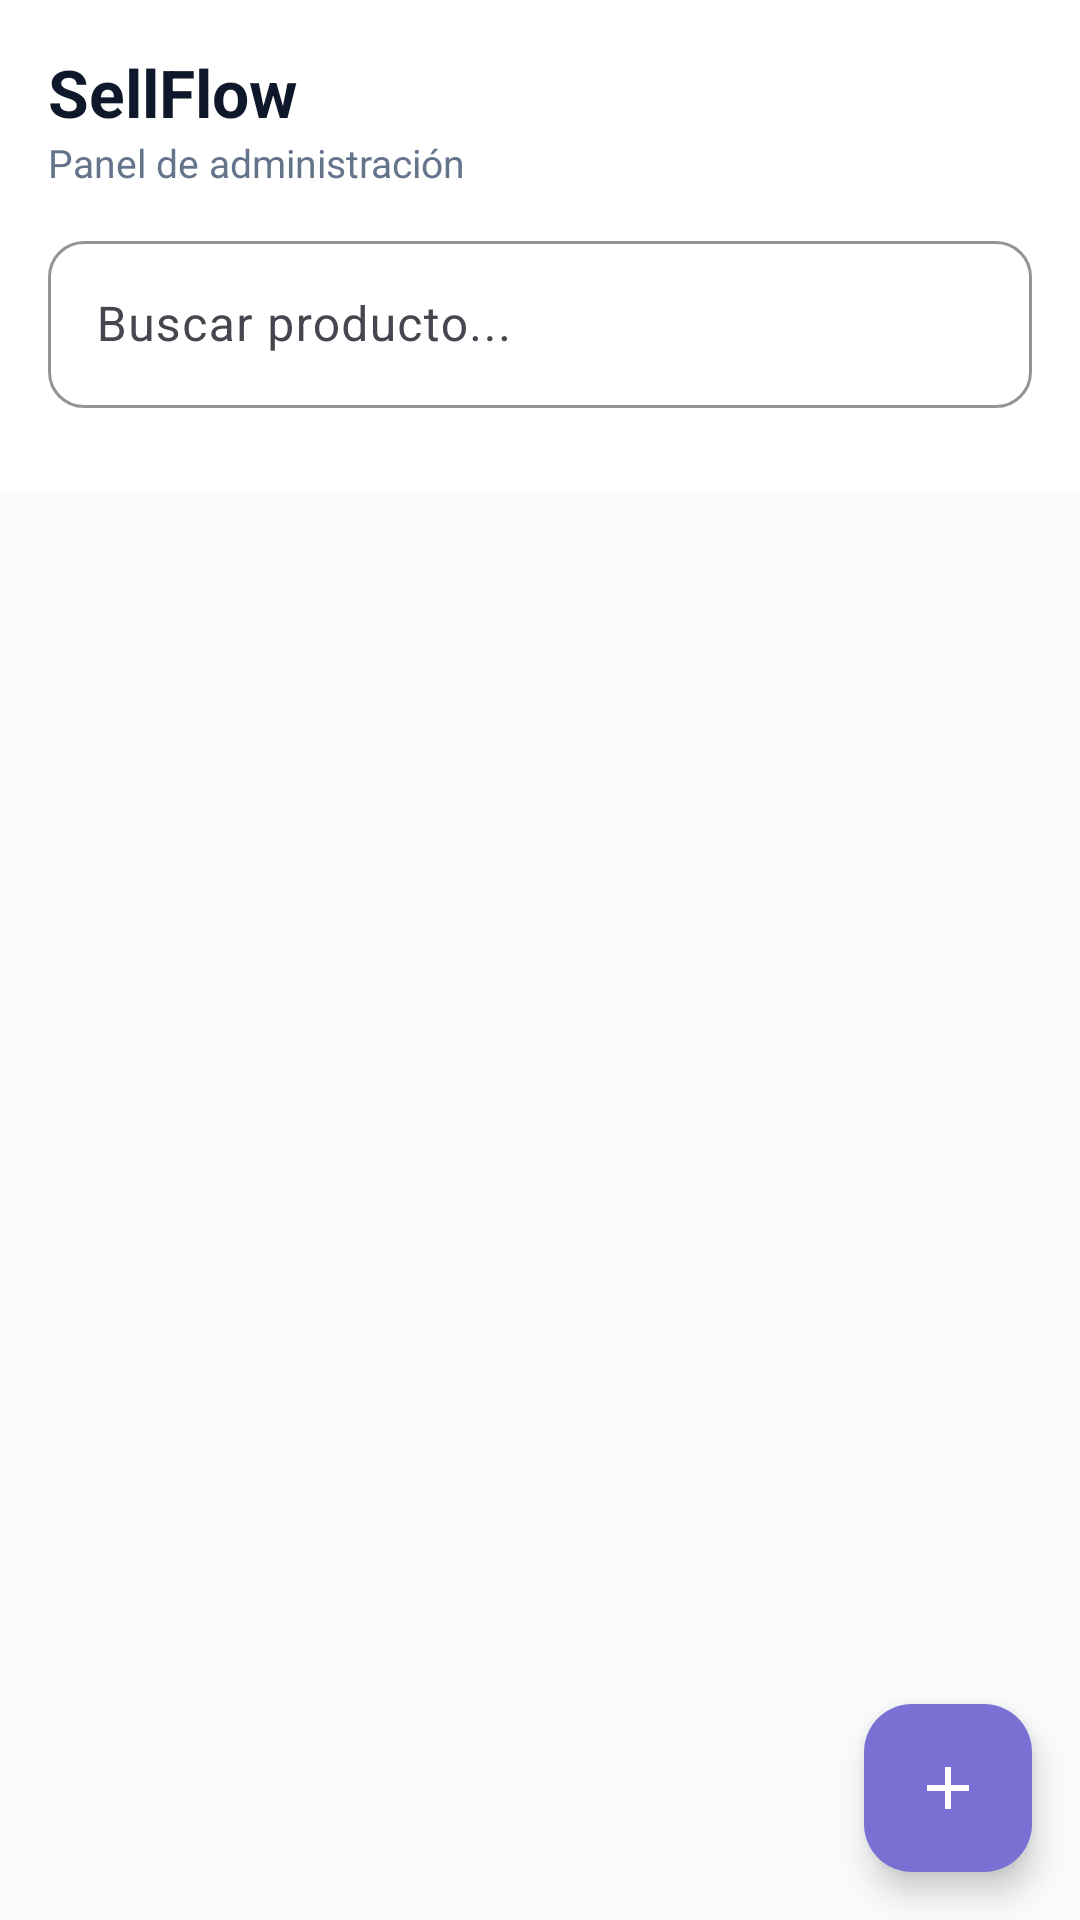

Screen size 1080w x 1920h. Icon name, then its center in pixels as (x=x, y=y):
Agregar producto: (x=948, y=1788)
